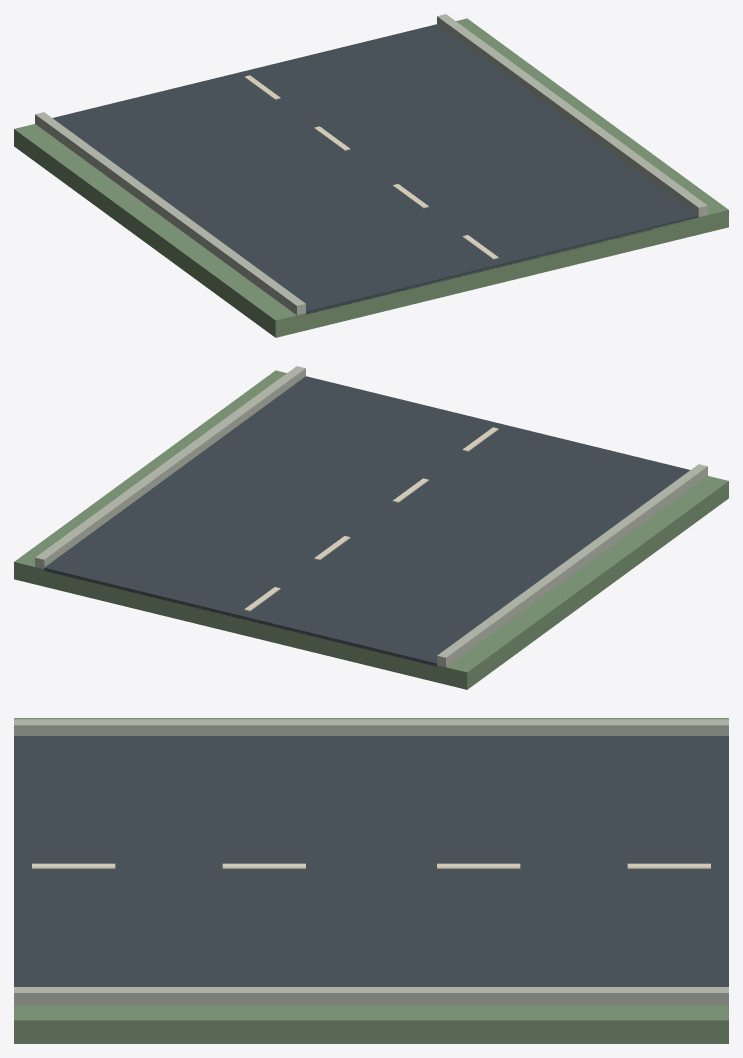
File: road-straight.glb
3 renders of one model, top to bottom at view 1: azimuth 30°, elevation 25°; view 2: azimuth 150°, elevation 25°; view 3: azimuth 270°, elevation 25°, orthographic. The views are drawn at different scales.
Visible parts, largest first — view 1: RoadStraight_asphalt, RoadStraight_grass, RoadStraight_curb, RoadStraight_line; view 2: RoadStraight_asphalt, RoadStraight_grass, RoadStraight_curb, RoadStraight_line; view 3: RoadStraight_asphalt, RoadStraight_grass, RoadStraight_curb, RoadStraight_line.
Boxes of the visible parts, x1,y1,x2,y2 form: RoadStraight_asphalt: (52,24,698,314); RoadStraight_grass: (14,18,728,337); RoadStraight_curb: (35,14,707,315); RoadStraight_line: (244,75,498,259); RoadStraight_asphalt: (44,376,690,666); RoadStraight_grass: (14,370,728,689); RoadStraight_curb: (35,366,707,667); RoadStraight_line: (244,427,498,611); RoadStraight_asphalt: (14,736,728,986); RoadStraight_grass: (14,718,728,1043); RoadStraight_curb: (14,719,728,1005); RoadStraight_line: (32,863,710,868).
Size of the model in its own units: 6 by 0.34 by 6.
